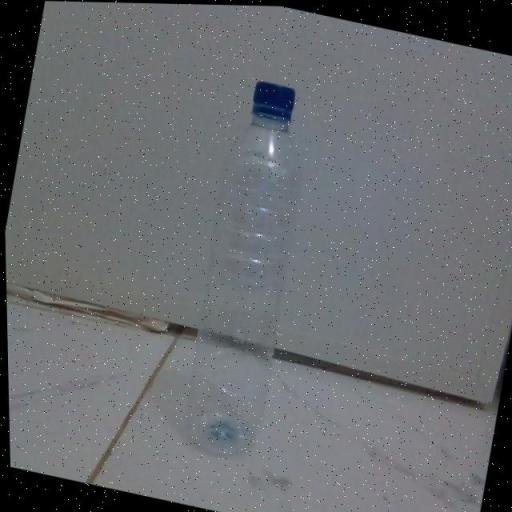plastic: (162, 75, 324, 466)
